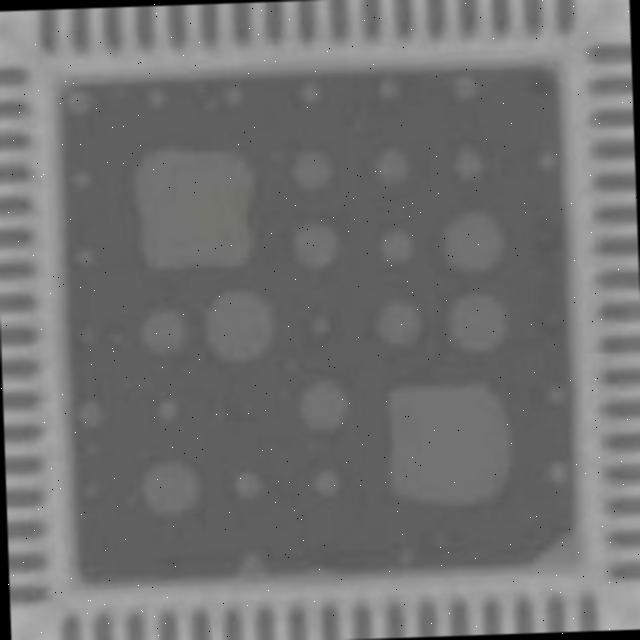chip: (52, 56, 580, 588)
void: (388, 384, 510, 506), (136, 148, 252, 269), (204, 290, 273, 360), (443, 212, 502, 274), (448, 294, 506, 351), (143, 460, 199, 518), (299, 379, 347, 430), (291, 223, 338, 269), (140, 310, 185, 353), (376, 302, 419, 346), (374, 146, 407, 183), (379, 227, 412, 263), (233, 472, 262, 498), (312, 469, 338, 497), (65, 90, 93, 114), (455, 75, 475, 97)
